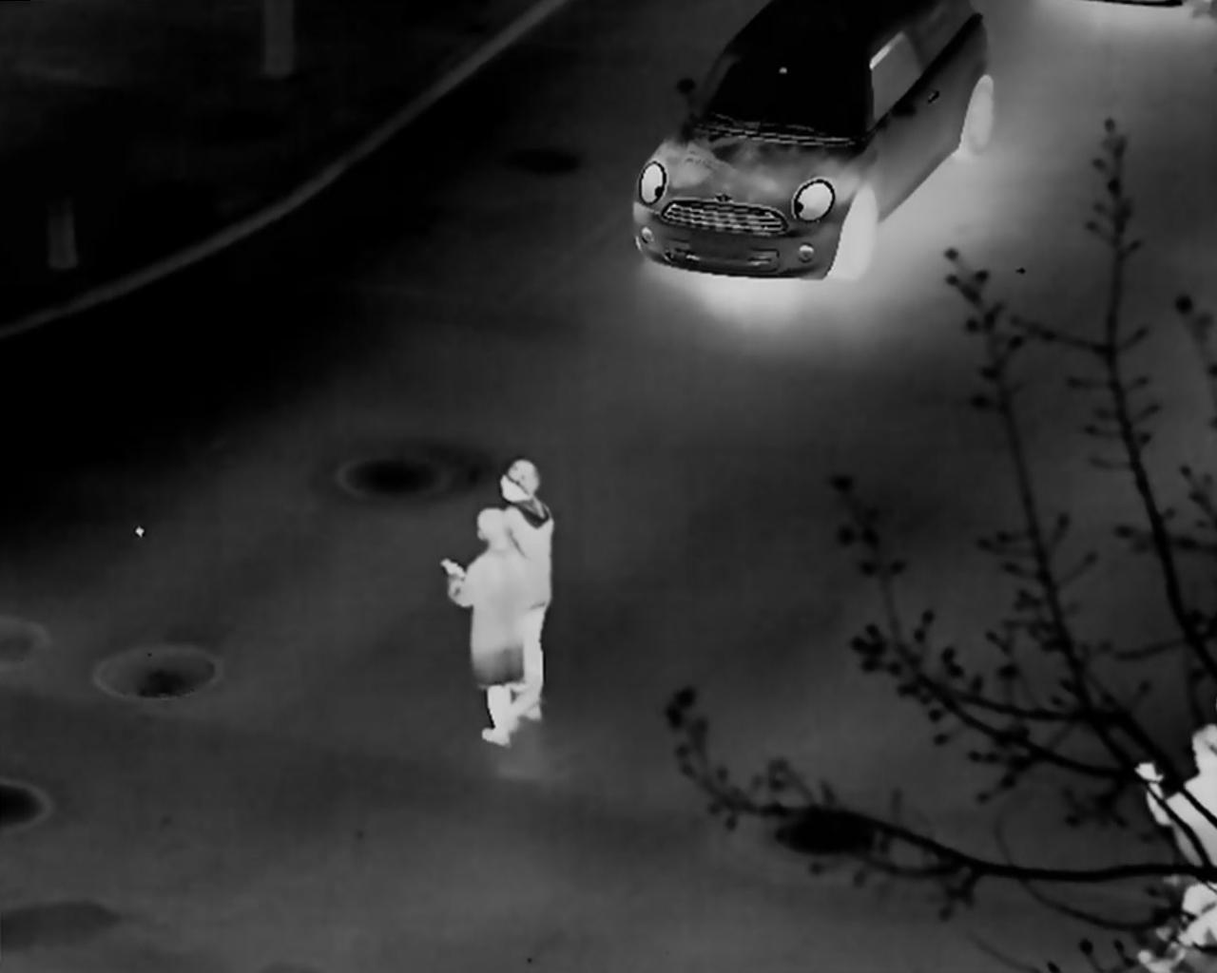person: (443, 506, 545, 725), (484, 458, 556, 699), (1138, 725, 1217, 916)
